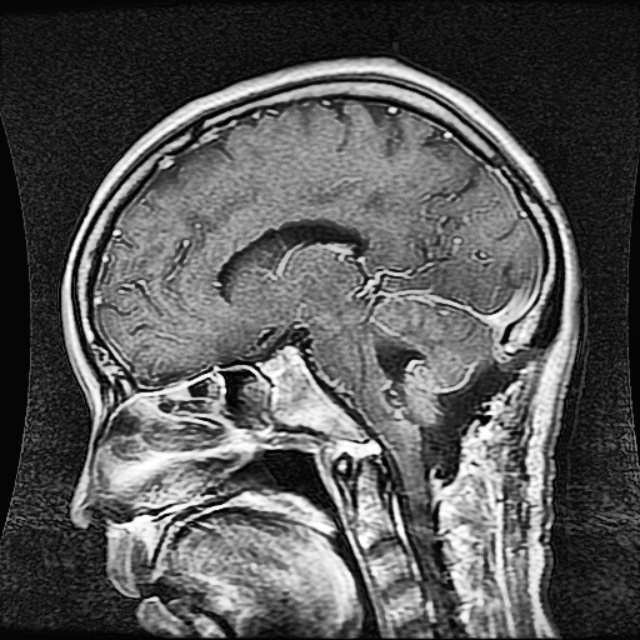Meningioma: (372, 334, 428, 408)
